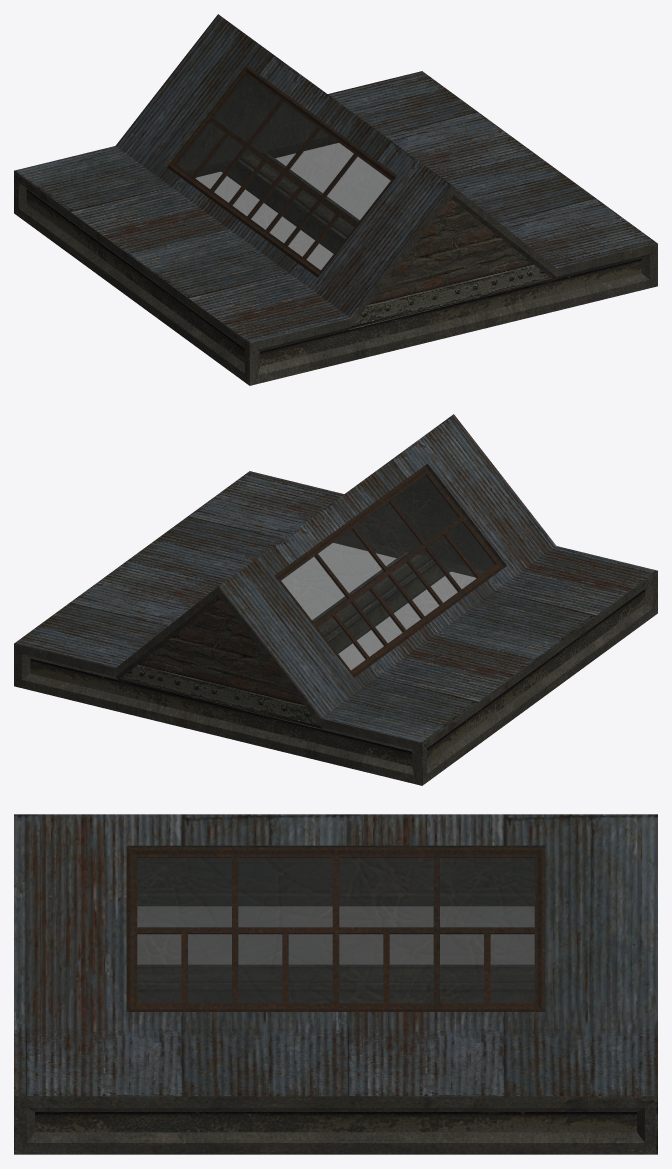
File: roof_bx_1.obj
3 views of the same model, one above another, from view 1: azimuth 30°, elevation 25°; view 2: azimuth 150°, elevation 25°; view 3: azimuth 270°, elevation 25° (orthographic). The views are drawn at different scales.
Parts seen in each view (by area): view 1: roof_bx_1; view 2: roof_bx_1; view 3: roof_bx_1.
Part boxes in pixels (x1,y1,x2,y2): roof_bx_1: [14, 14, 657, 385]; roof_bx_1: [14, 414, 657, 785]; roof_bx_1: [14, 814, 657, 1154].
Bounding box in the file's own units: 4 × 1.4 × 4.
